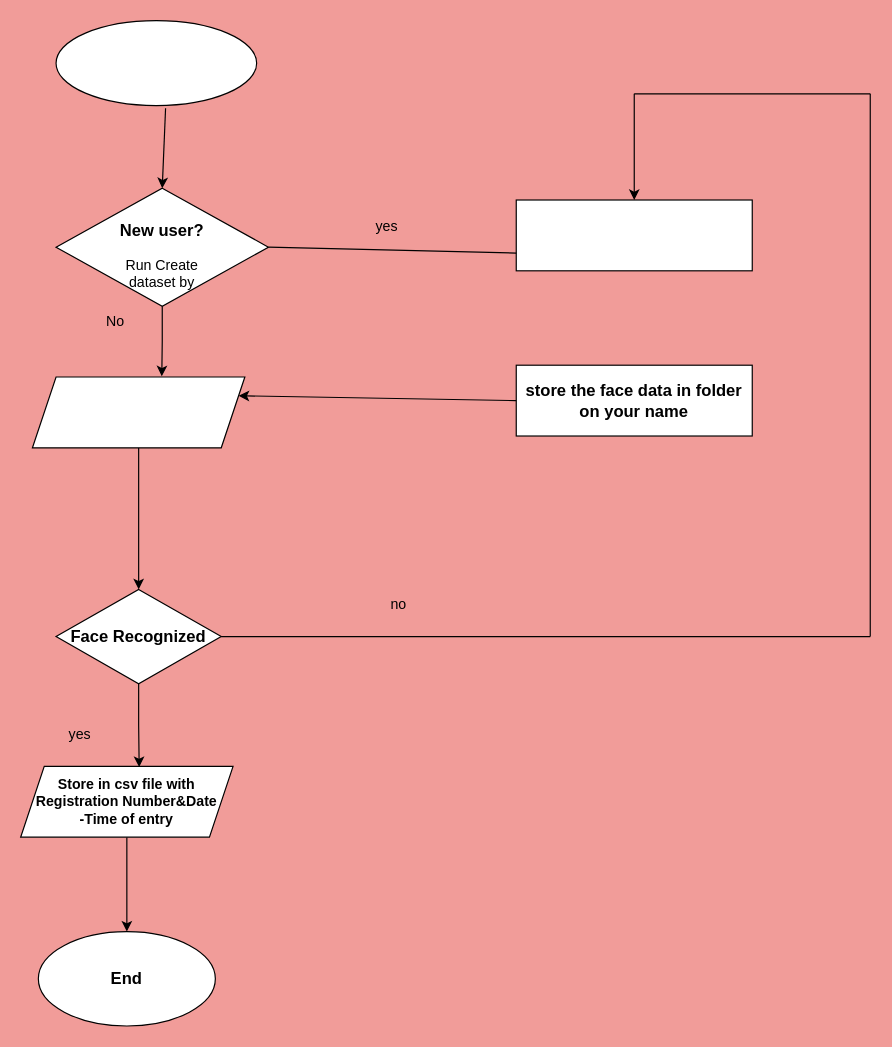
The diagram is 892 pixels wide and 1047 high, and some of its shapes have lost their labels. Each missing label, with the centre of its shape:
"Give your photograph" belongs at point (633, 235).
"Recognize the face run face recognization by" belongs at point (138, 412).
"Start" belongs at point (156, 62).
